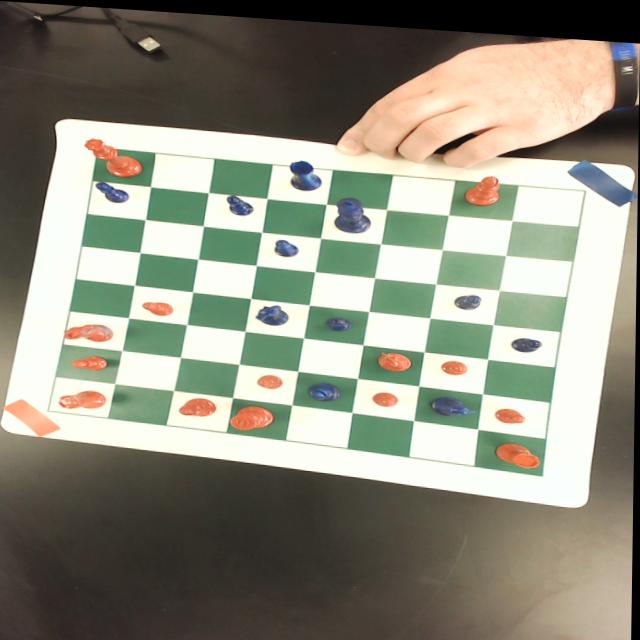B: (309, 376, 343, 397)
K: (335, 191, 373, 228)
N: (431, 389, 481, 411), (257, 299, 289, 321)
P: (95, 179, 132, 202), (225, 190, 255, 213), (510, 329, 544, 345), (453, 286, 483, 303), (274, 234, 300, 253), (327, 311, 353, 327)
R: (289, 154, 322, 187)
b: (463, 166, 503, 200), (179, 394, 218, 414)
k: (231, 399, 276, 428)
n: (63, 320, 117, 342), (377, 344, 413, 366)
p: (71, 352, 111, 369), (142, 298, 177, 314), (496, 400, 529, 416), (373, 384, 401, 402), (441, 352, 470, 369), (258, 370, 284, 385)
q: (84, 135, 144, 177)
r: (495, 434, 542, 460), (58, 385, 108, 409)
